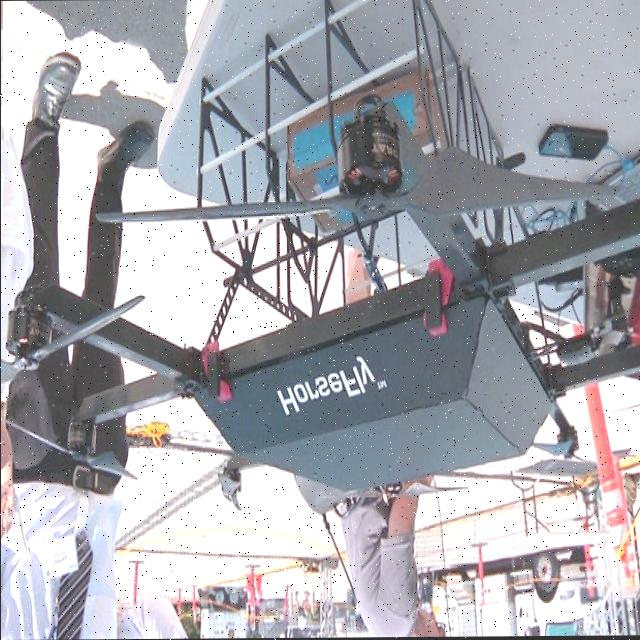drone: (5, 110, 640, 578)
